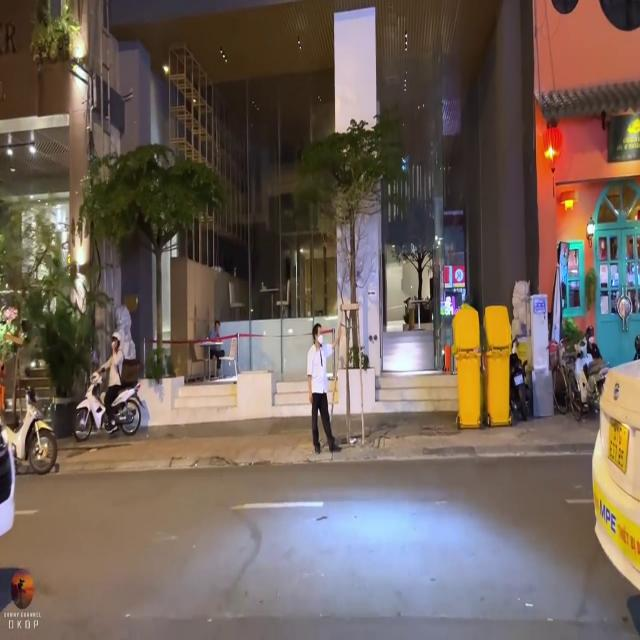bien_vang: (601, 408, 632, 478)
